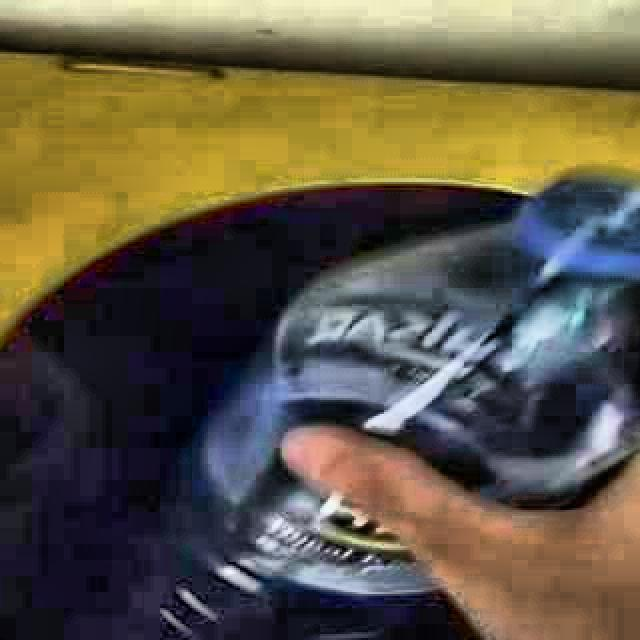plastic: (205, 171, 640, 598)
